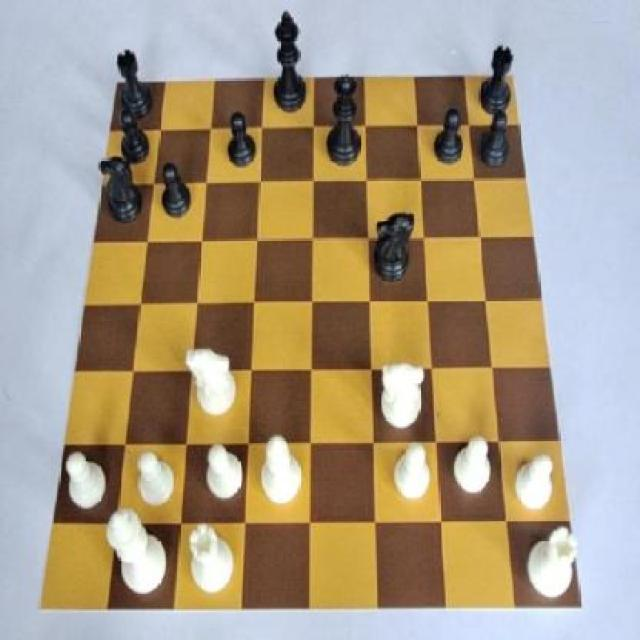black-bishop: (271, 8, 307, 120)
black-king: (92, 154, 144, 228), (372, 210, 415, 288)
black-knight: (154, 160, 198, 224), (222, 105, 256, 177), (114, 110, 153, 172), (431, 104, 466, 168), (477, 106, 512, 169)
black-pawn: (324, 72, 368, 170)
black-queen: (112, 49, 158, 133), (482, 43, 516, 117)
black-rook: (260, 426, 305, 512)
white-bishop: (105, 506, 170, 606)
white-king: (182, 344, 239, 420), (378, 358, 427, 437)
white-knight: (388, 441, 438, 507), (61, 446, 106, 517), (514, 443, 558, 515), (132, 448, 178, 515), (200, 444, 245, 512), (454, 434, 491, 501)
white-queen: (528, 523, 580, 608), (186, 525, 237, 596)
